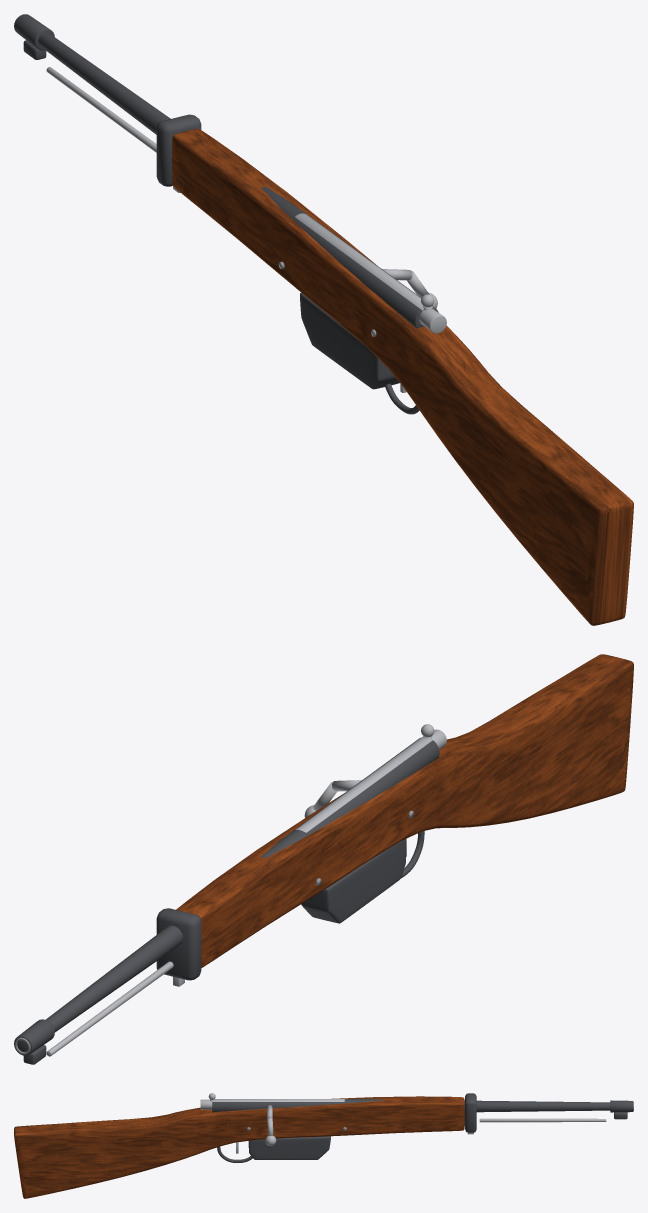
File: carcano.glb
The picture shows the model from 3 angles, top to bottom: view 1: azimuth 30°, elevation 25°; view 2: azimuth 150°, elevation 25°; view 3: azimuth 270°, elevation 25°; orthographic projection. The views are drawn at different scales.
Visible parts, largest first — view 1: stock, floor_plate, barrel, receiver, band_0, bolt_body, bayonet_fold; view 2: stock, floor_plate, barrel, receiver, band_0, bolt_body, bayonet_fold, front_block; view 3: stock, floor_plate, barrel, receiver, bayonet_fold, band_0, bolt_body, front_block.
Boxes of the visible parts, left/top/right/bottom form: stock: left=172, top=129, right=633, bottom=625; floor_plate: left=300, top=292, right=399, bottom=389; barrel: left=38, top=32, right=170, bottom=134; receiver: left=261, top=187, right=438, bottom=328; band_0: left=156, top=114, right=201, bottom=186; bolt_body: left=295, top=213, right=434, bottom=325; bayonet_fold: left=46, top=67, right=156, bottom=152; stock: left=176, top=654, right=633, bottom=967; floor_plate: left=301, top=839, right=405, bottom=923; barrel: left=17, top=925, right=182, bottom=1051; receiver: left=261, top=738, right=439, bottom=857; band_0: left=156, top=908, right=201, bottom=980; bolt_body: left=295, top=737, right=432, bottom=832; bayonet_fold: left=46, top=961, right=173, bottom=1056; front_block: left=14, top=1019, right=54, bottom=1055; stock: left=14, top=1096, right=464, bottom=1198; floor_plate: left=248, top=1136, right=330, bottom=1159; barrel: left=464, top=1100, right=610, bottom=1112; receiver: left=212, top=1099, right=382, bottom=1112; bayonet_fold: left=479, top=1118, right=606, bottom=1122; band_0: left=465, top=1093, right=476, bottom=1132; bolt_body: left=212, top=1099, right=344, bottom=1101; front_block: left=610, top=1100, right=633, bottom=1112.
Bounding box in the file's own units: 0.0908 × 0.2003 × 1.1.
4 materials, 1 textured.
